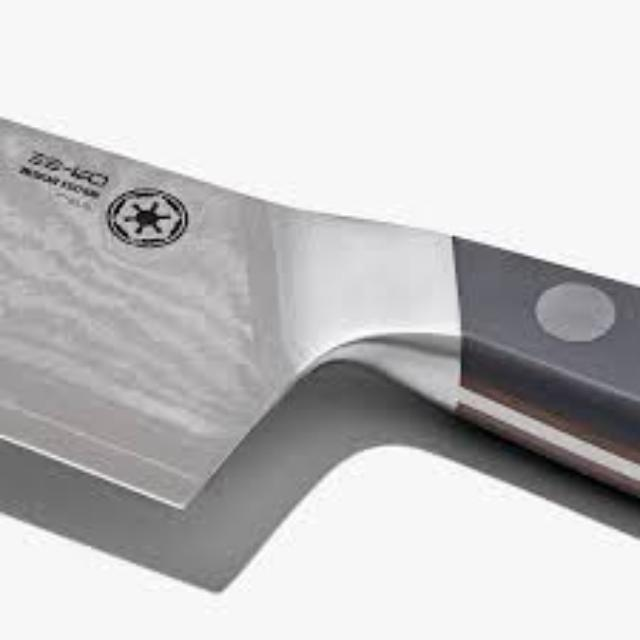knife: (0, 71, 638, 591)
